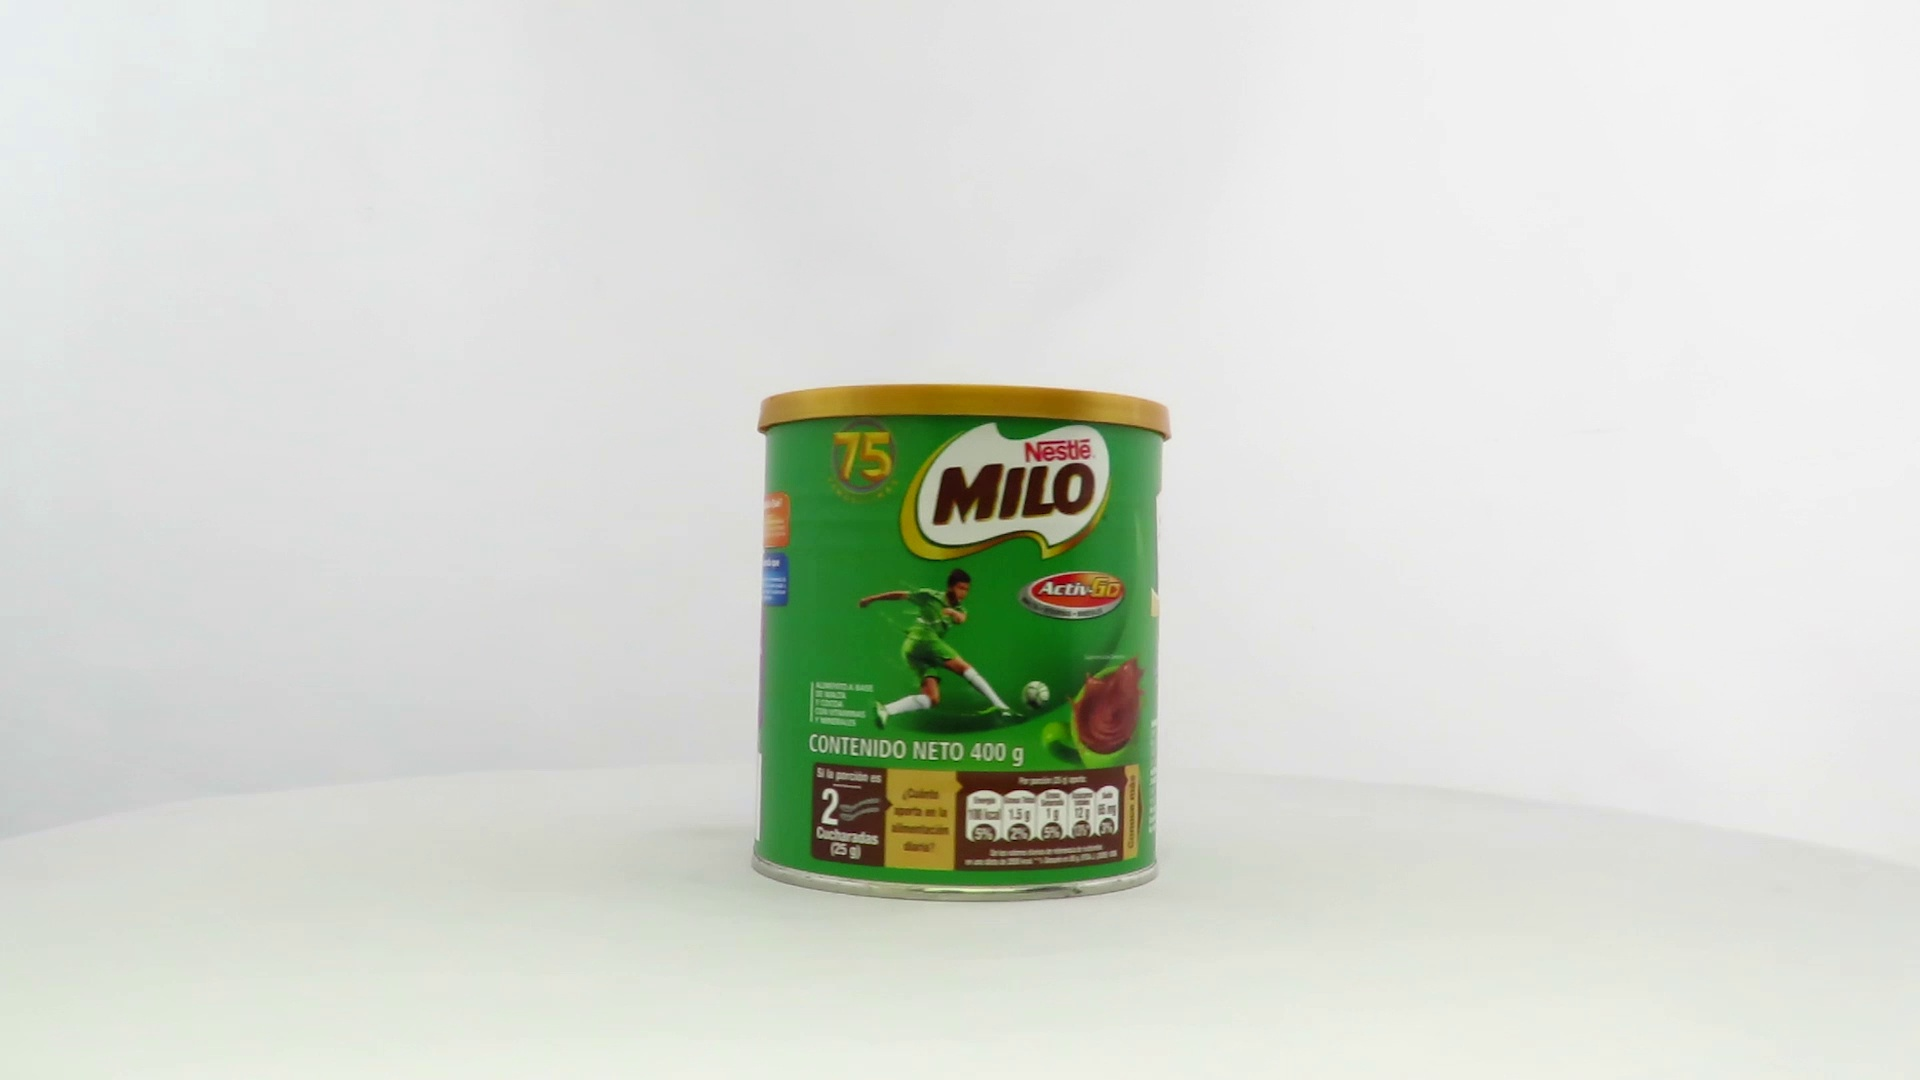COL0170203LAT40000: (746, 378, 1178, 909)
